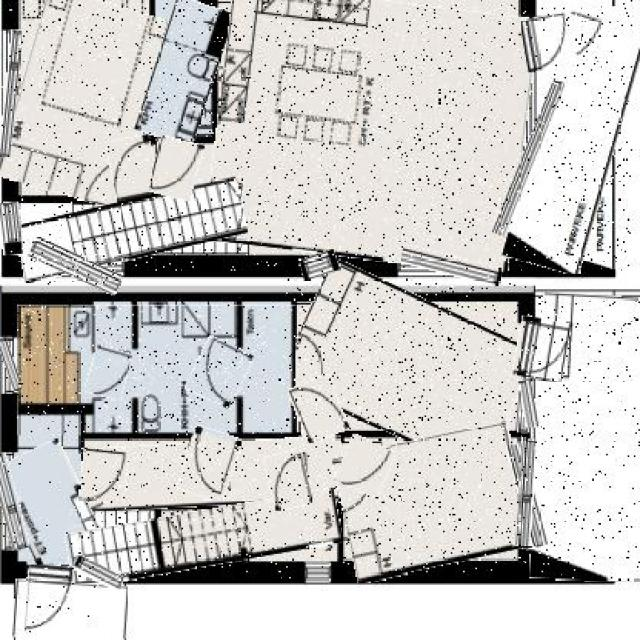door: (182, 428, 238, 500), (189, 340, 249, 406), (514, 317, 569, 380), (292, 377, 345, 441), (110, 136, 158, 202), (26, 566, 72, 634), (522, 15, 576, 71), (154, 138, 203, 198), (338, 440, 391, 495), (266, 451, 311, 509), (80, 449, 128, 503), (88, 348, 130, 398)
window: (12, 580, 126, 640), (508, 77, 550, 238), (28, 246, 123, 286), (512, 443, 542, 548), (400, 251, 502, 280), (0, 452, 23, 550), (2, 29, 18, 157), (517, 439, 534, 546), (72, 560, 123, 588), (0, 201, 22, 254), (0, 336, 18, 392), (302, 252, 338, 278), (517, 377, 532, 434), (520, 380, 537, 429), (306, 562, 331, 584)
zone: (209, 0, 529, 266), (286, 278, 529, 456), (17, 304, 295, 436), (6, 0, 163, 202), (518, 0, 632, 271), (532, 294, 640, 580), (339, 431, 526, 575), (66, 500, 342, 578), (17, 190, 248, 272), (81, 438, 342, 508), (1, 444, 96, 570), (143, 0, 223, 142)
